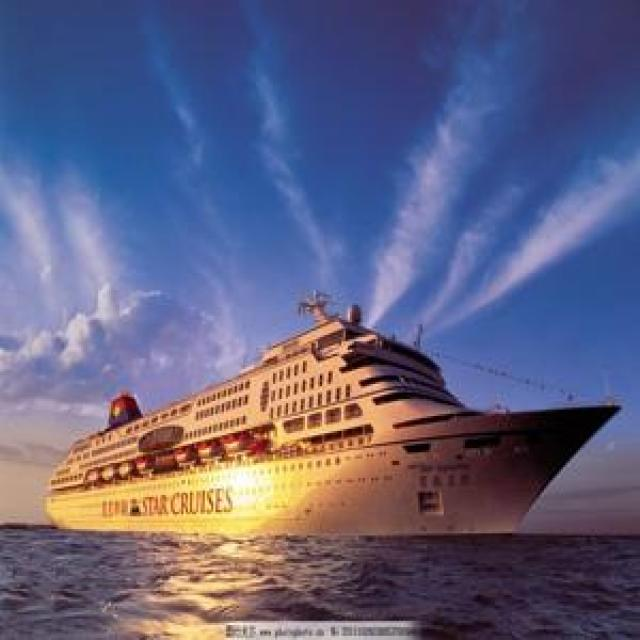passenger ship: (36, 317, 623, 532)
